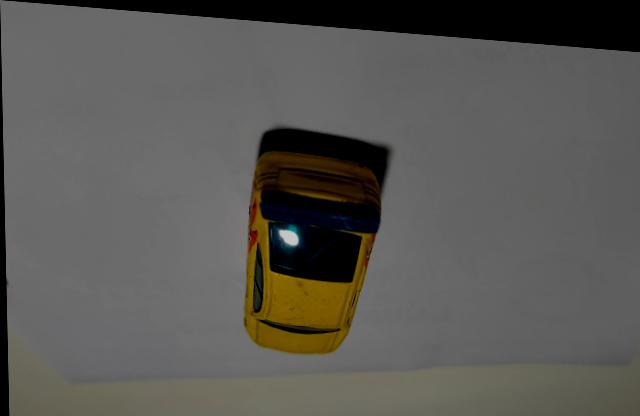02_OZSOME: (242, 145, 381, 348)
